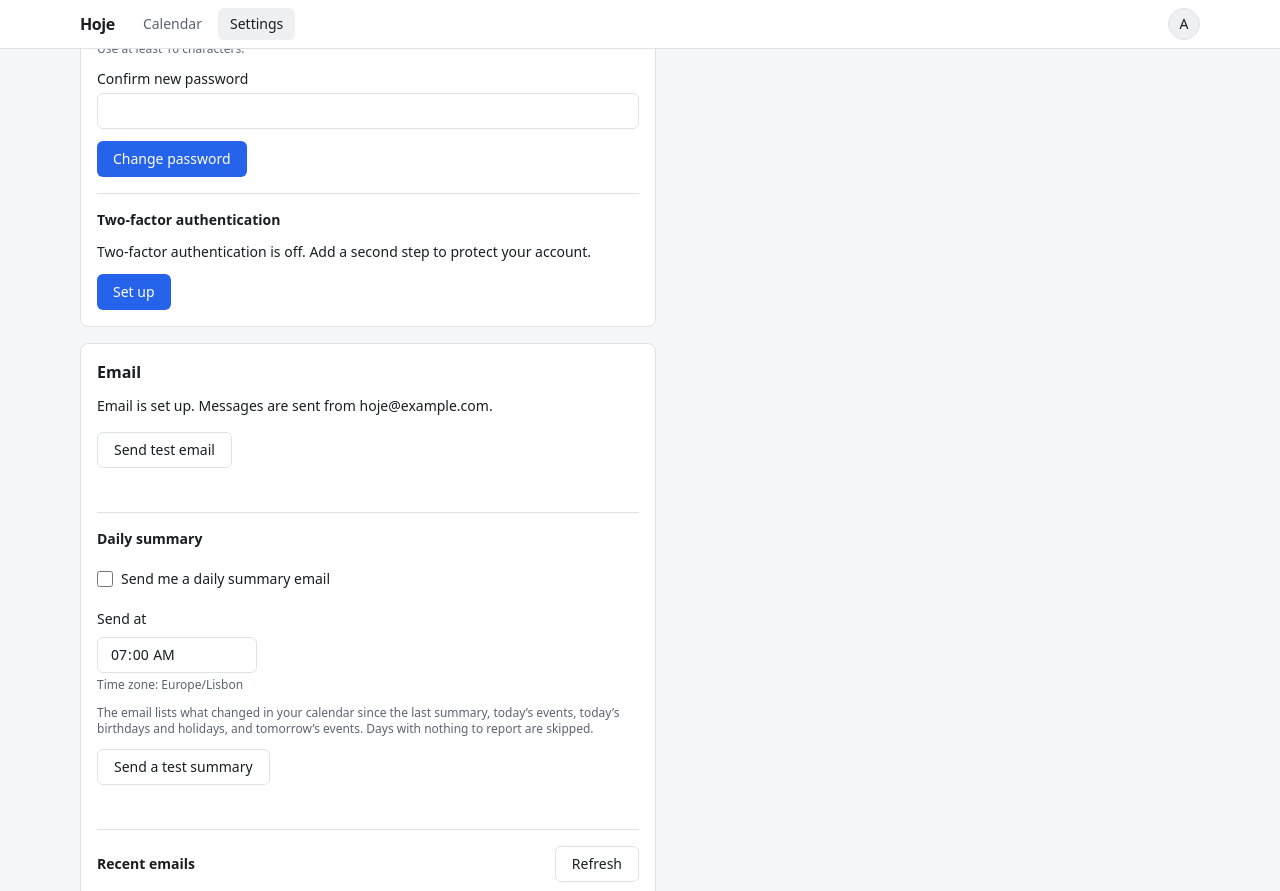
Test case: email settings › reports a successful test email
(page scrolled)
Check: the text "Email is set up. Messages are sent from hoje@example.com." is shown, box [97,396,493,415]
What coordinates should you click on to do the following:
click the button "Send test email"
I would click on:
 (164, 450)
Its box is [97,432,232,468].
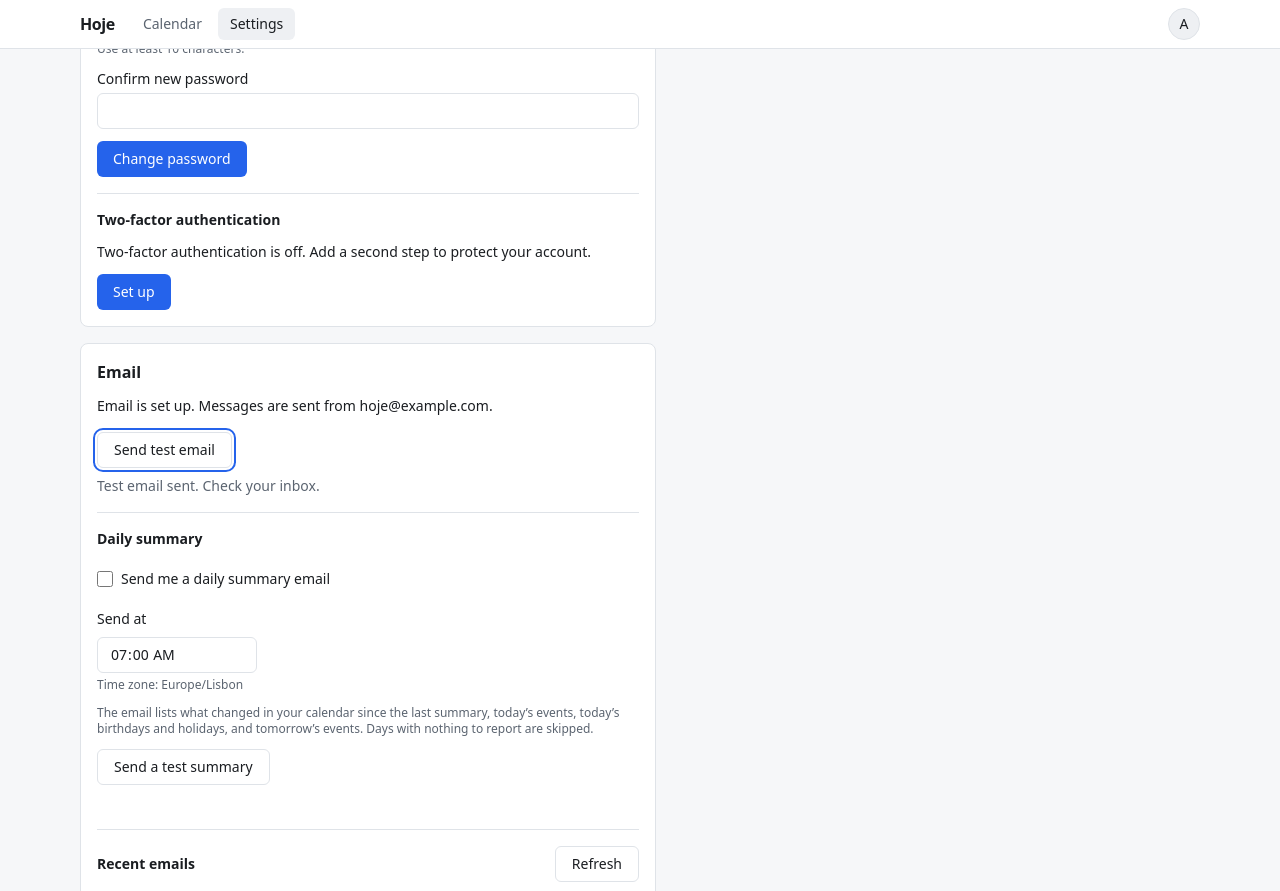
Check: the text "Test email sent. Check your inbox." is shown, box [97,476,320,495]
